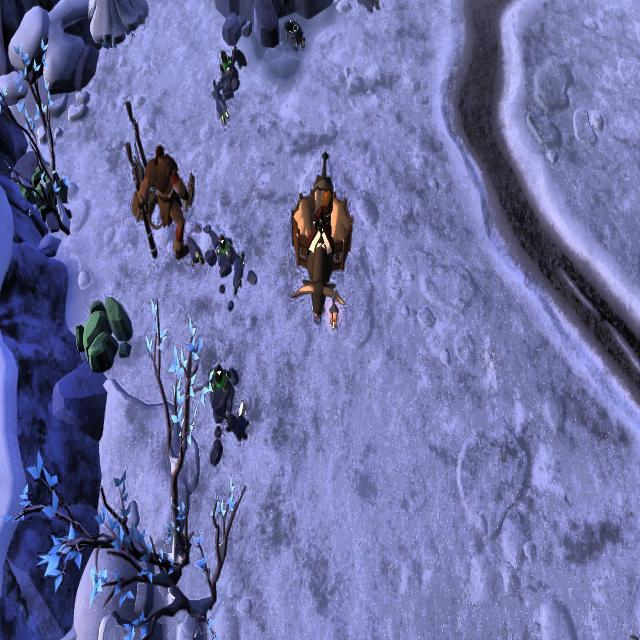enemy_factionKeeper: (132, 142, 198, 264)
rock_t3: (70, 290, 136, 374), (19, 159, 65, 220)
